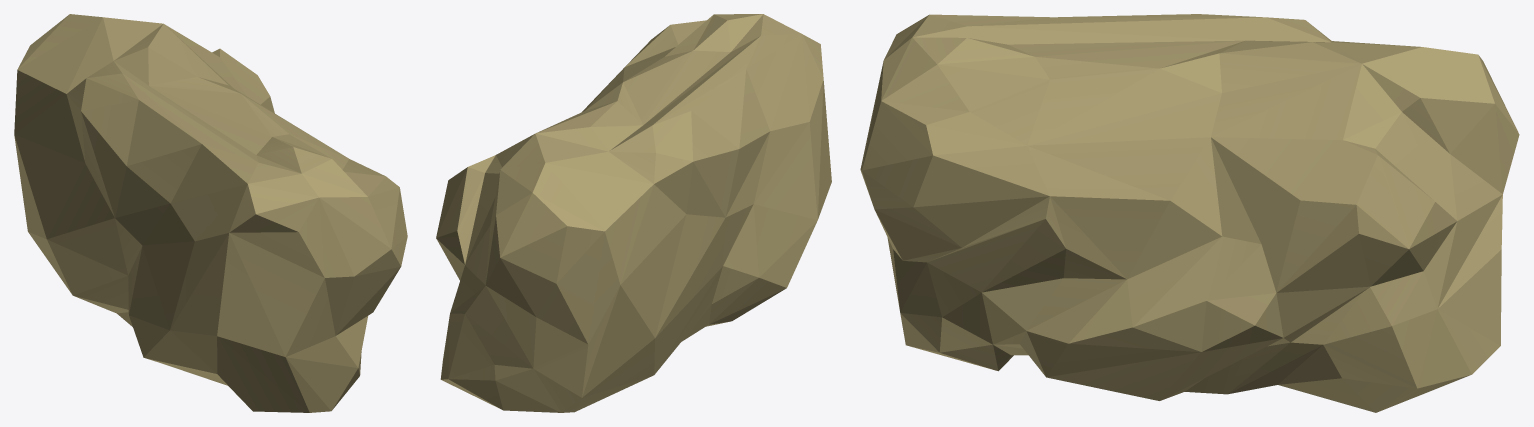
Rendered from SM_rock_59.fbx.
3 views of the same model, side by side, from view 1: azimuth 30°, elevation 25°; view 2: azimuth 150°, elevation 25°; view 3: azimuth 270°, elevation 25° (orthographic). The views are drawn at different scales.
Parts seen in each view (by area): view 1: rock_59; view 2: rock_59; view 3: rock_59.
Boxes of the visible parts, x1,y1,x2,y2 form: rock_59: [14, 14, 407, 412]; rock_59: [436, 14, 831, 412]; rock_59: [860, 14, 1519, 412].
Size of the model in its own units: 108 by 120 by 209.
